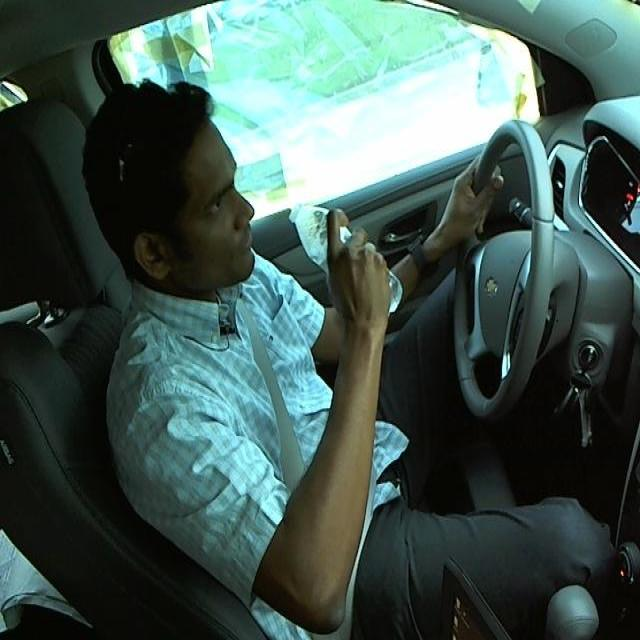Seatbelt: (292, 203, 404, 312)
